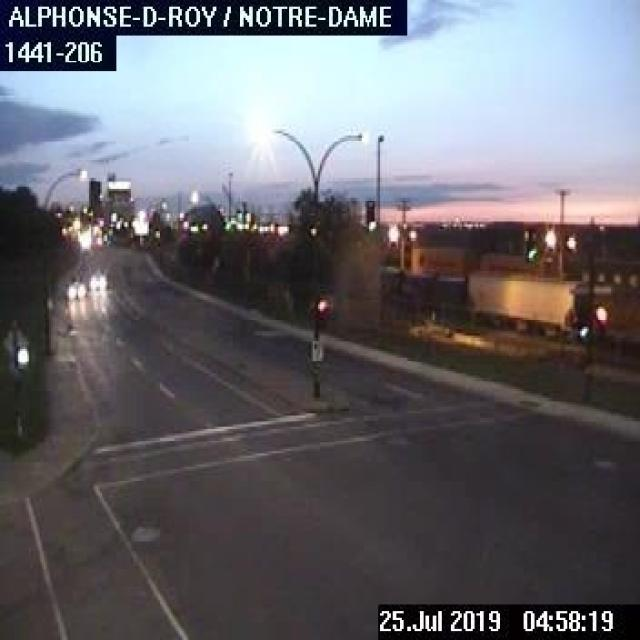vehicle: (62, 272, 87, 299), (86, 269, 108, 291)
